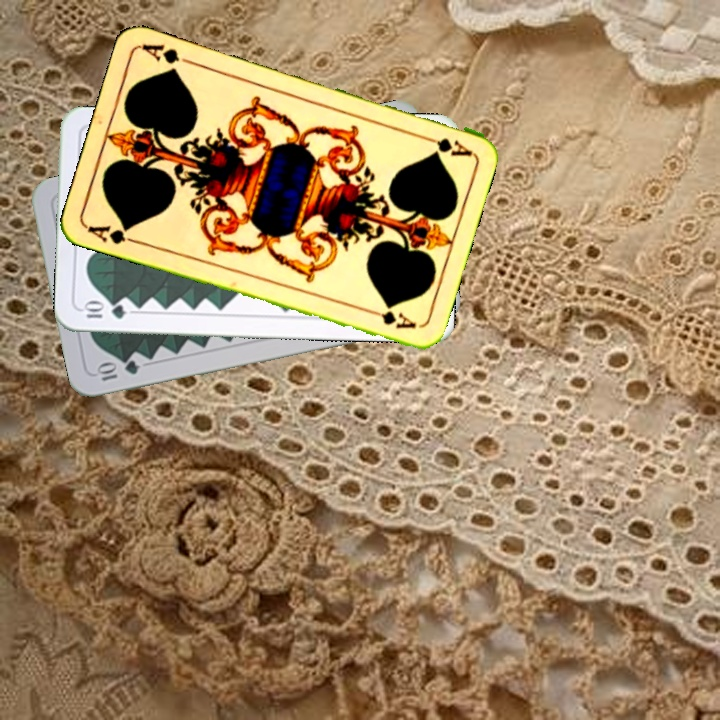G10: (93, 356, 142, 384), (79, 299, 128, 321)
GA: (416, 130, 473, 159), (83, 221, 142, 247)
